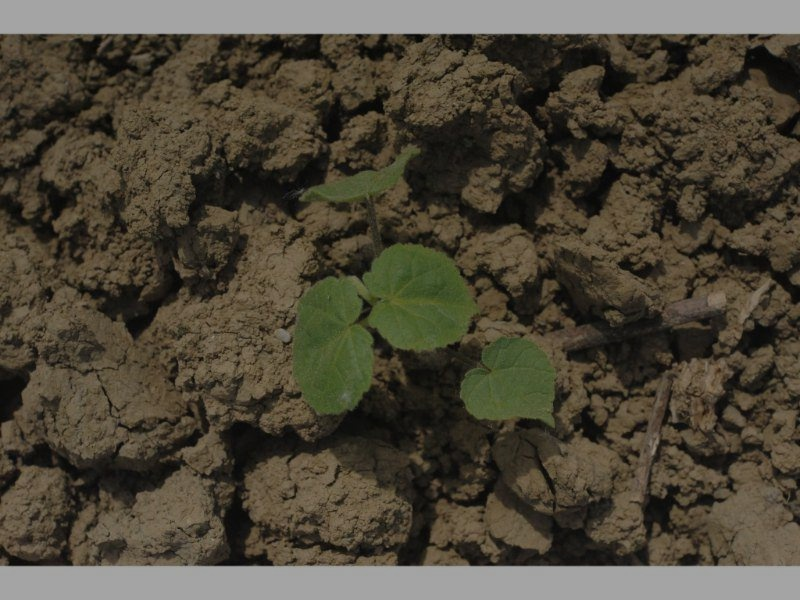velvet: (292, 156, 556, 433)
